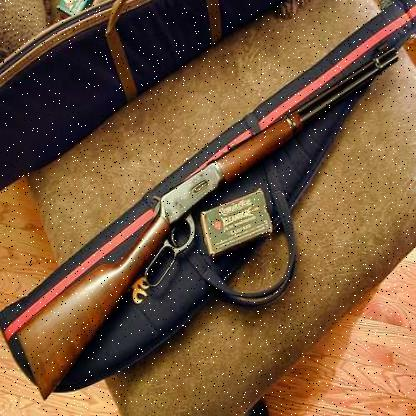rifle: (24, 32, 410, 404)
